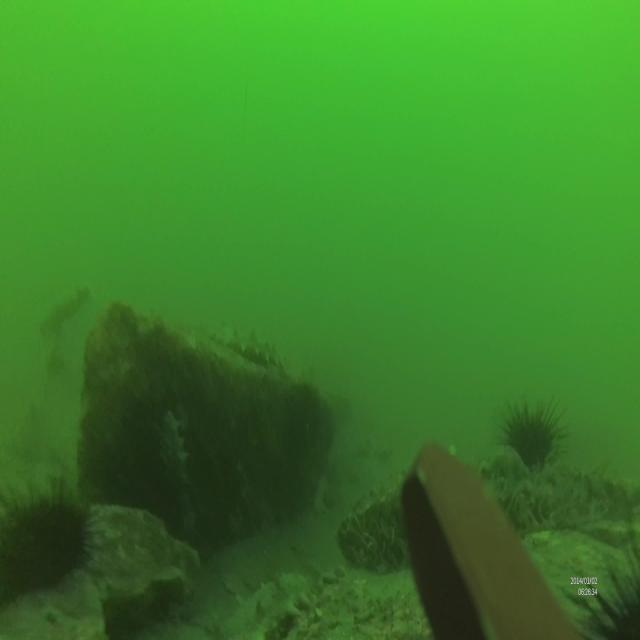echinus: (0, 484, 108, 598), (492, 394, 564, 468)
holothurian: (160, 411, 200, 542), (206, 317, 287, 369)
